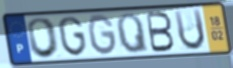B: (145, 11, 176, 54)
G: (86, 13, 119, 57), (56, 15, 89, 58)
O: (25, 17, 62, 60)
Q: (115, 12, 151, 55)
U: (172, 7, 207, 53)
